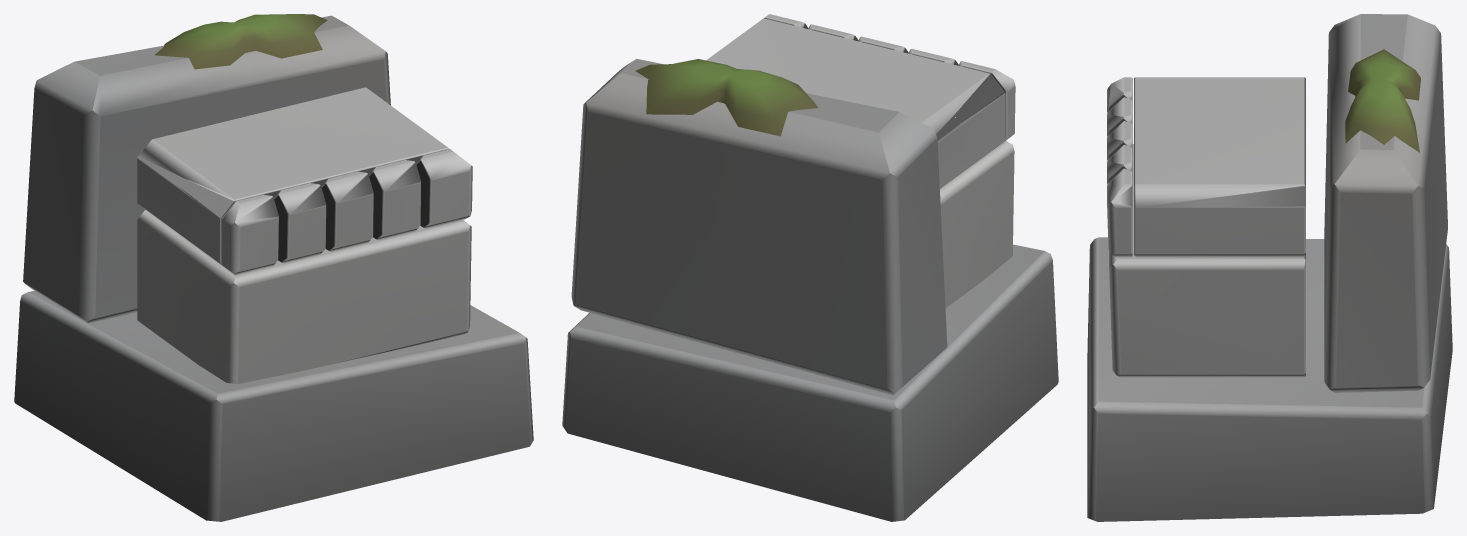
The model's file is ground_quarry_half.glb.
The picture shows the model from 3 angles, left to right: view 1: azimuth 30°, elevation 25°; view 2: azimuth 150°, elevation 25°; view 3: azimuth 270°, elevation 25°; orthographic projection. The views are drawn at different scales.
Visible parts, largest first — view 1: ground_quarry_half_LOD0; view 2: ground_quarry_half_LOD0; view 3: ground_quarry_half_LOD0.
Boxes of the visible parts, left/top/right/bottom form: ground_quarry_half_LOD0: left=14, top=14, right=533, bottom=521; ground_quarry_half_LOD0: left=562, top=14, right=1058, bottom=521; ground_quarry_half_LOD0: left=1087, top=14, right=1452, bottom=521.
Size of what is drawn, in the model's own units: 1.06 by 1.03 by 0.9357.
